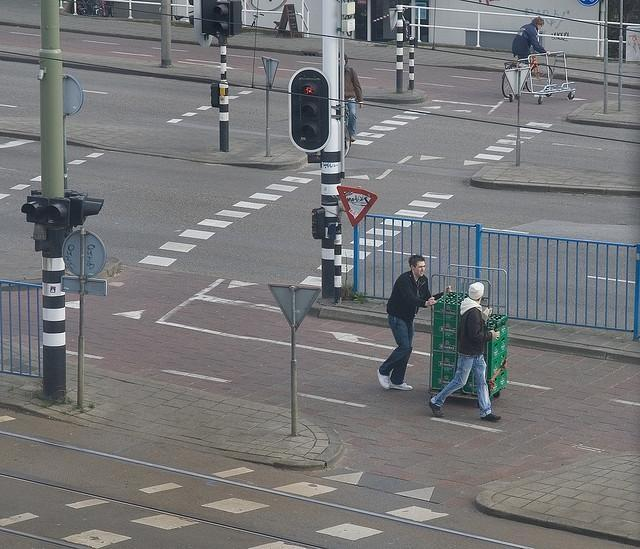bicycle: (502, 55, 554, 99), (344, 98, 356, 158)
